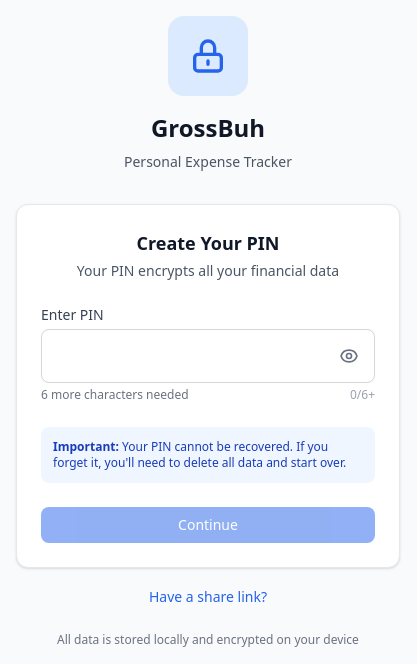
Test: PinSetupPage › advances to confirm step
The width and height of the screenshot is (417, 664).
Type "123456" into the password field labelled "Enter PIN".
click(208, 356); type("123456")  # box [41,329,375,383]
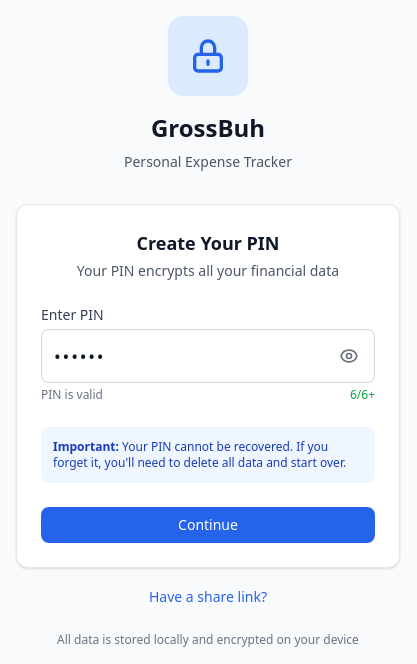
Click the button "Continue".
click(208, 525)  # box [41,507,375,543]
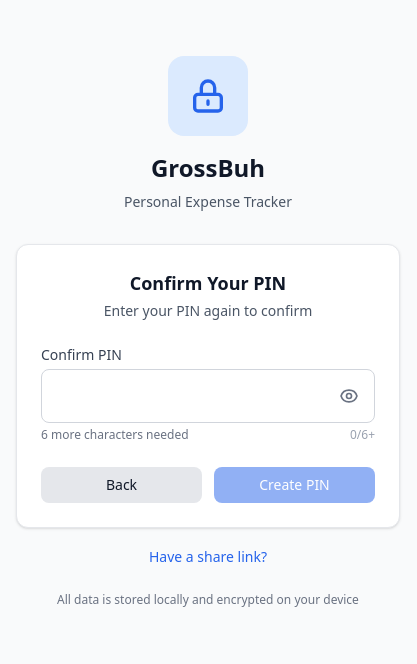
Expected: the heading "Confirm Your PIN" is shown, [130,271,286,295]
